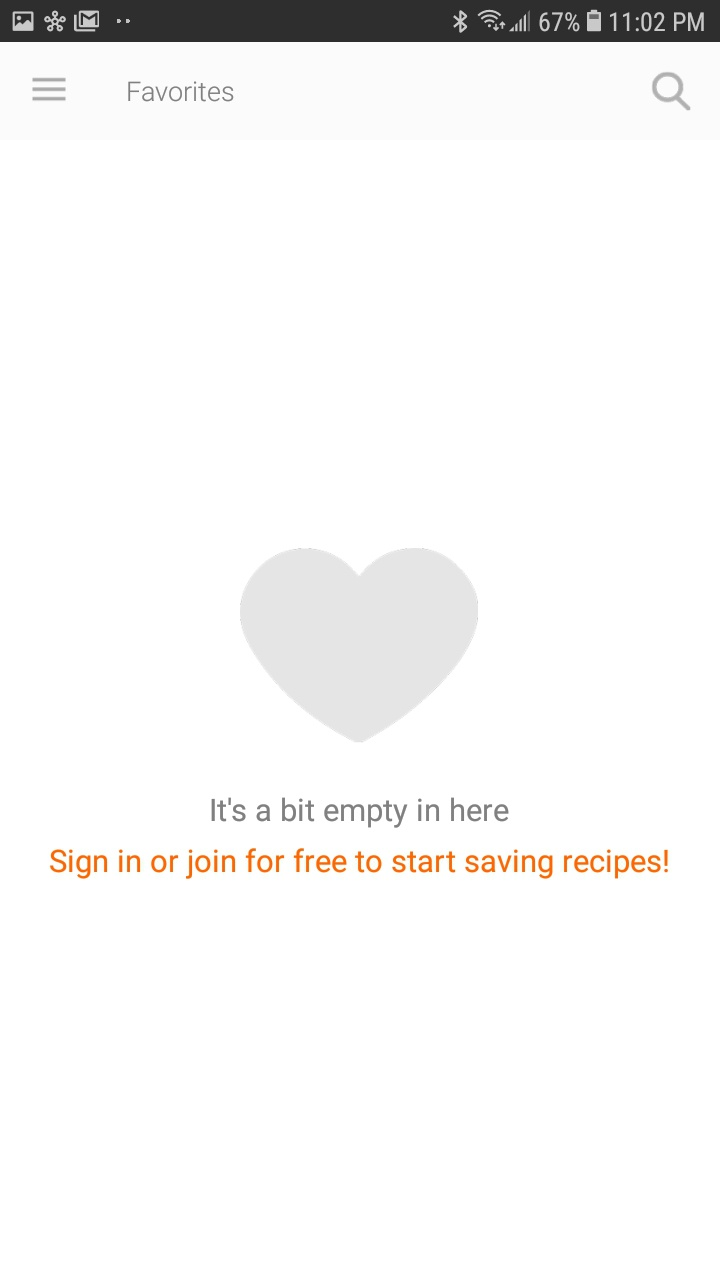Icon: (240, 548, 479, 744), (651, 72, 691, 112), (32, 77, 68, 103)
Text: (50, 849, 669, 880), (210, 796, 509, 829), (128, 80, 235, 103)
UpperTaskBar: (1, 1, 720, 43)
